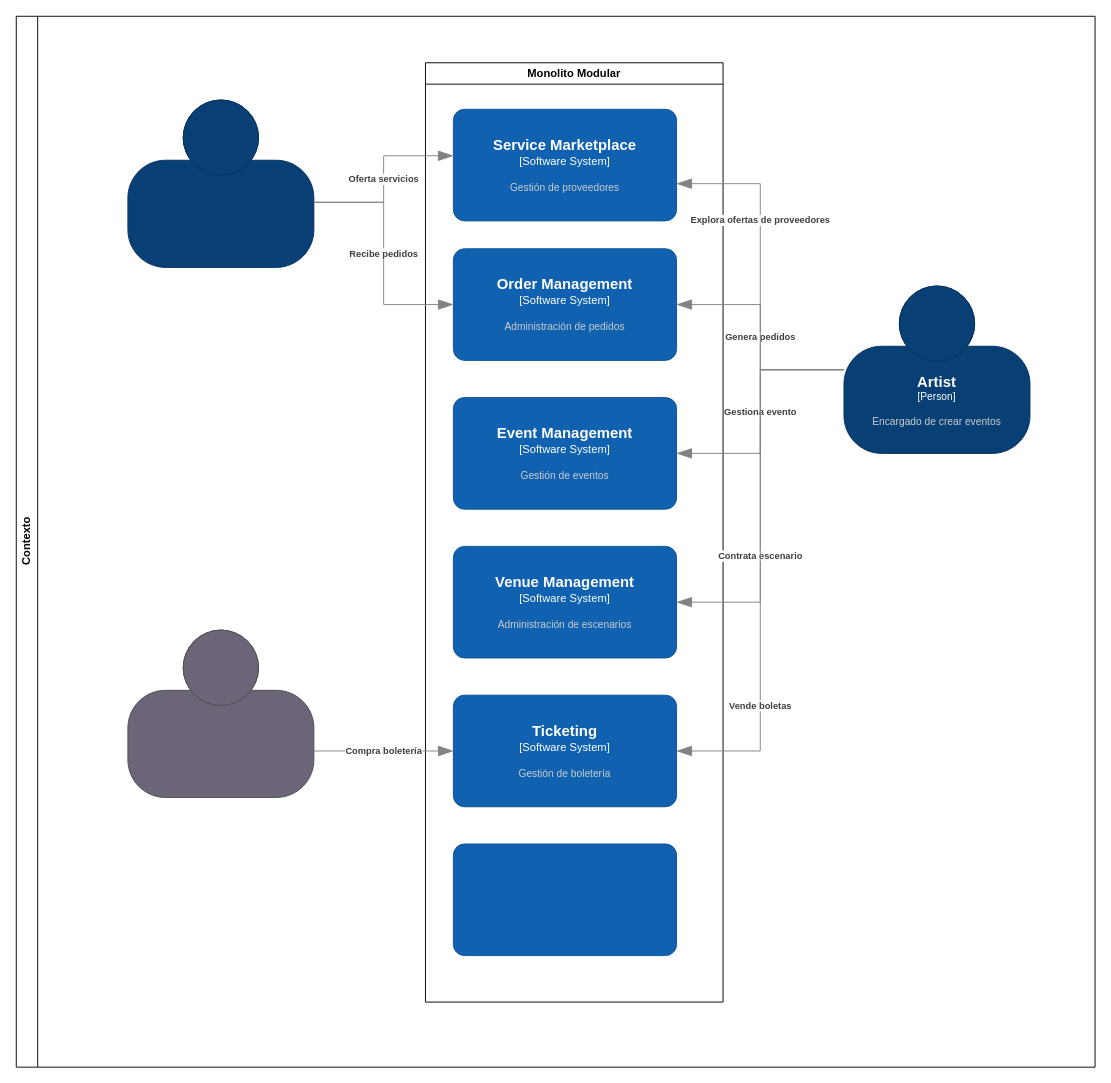
The diagram is 1111 pixels wide and 1083 high, and some of its shapes have lost their labels. Here are the shapes that lost their labels. From the top down, the centre of each, then its label:
the point at 220,183: Provider [Person] Ofrece servicios a los artistas
the point at 220,713: Customer [Person] Asistentes del evento
the point at 564,899: User Management [Software System] Administración de usuarios
